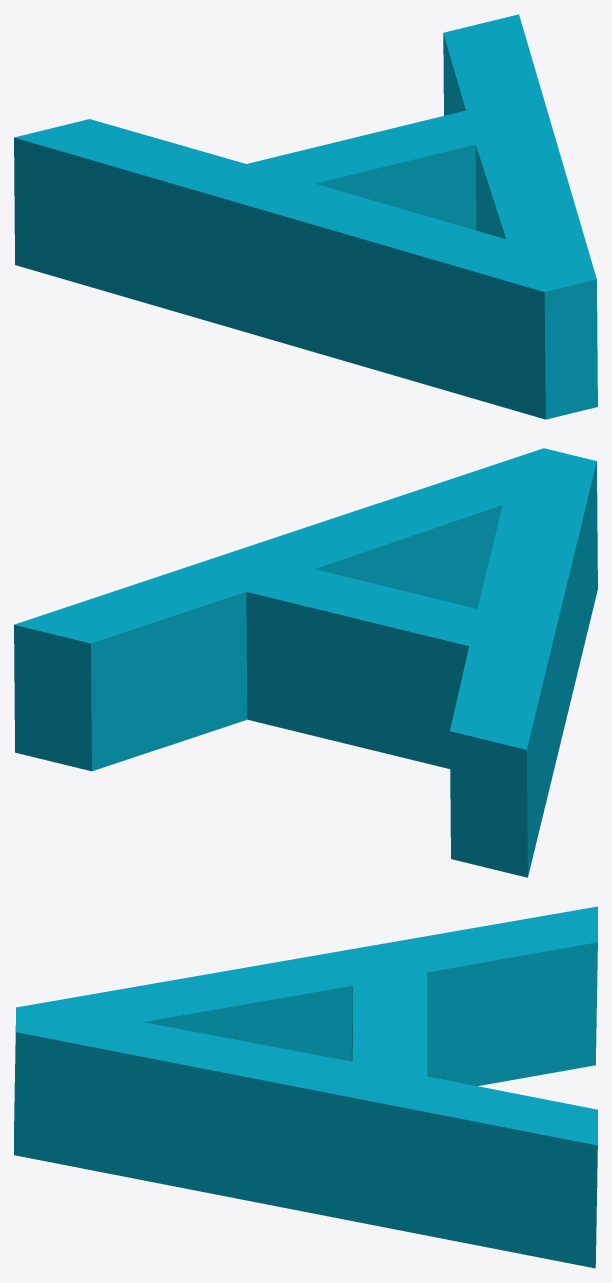
Rendered from letter_a.glb.
3 renders of one model, top to bottom at view 1: azimuth 30°, elevation 25°; view 2: azimuth 150°, elevation 25°; view 3: azimuth 270°, elevation 25°, orthographic. The views are drawn at different scales.
Visible parts, largest first — view 1: letter_a; view 2: letter_a; view 3: letter_a.
Boxes of the visible parts, box(x1,y1,x2,y2) form: letter_a: box(14, 14, 597, 419); letter_a: box(14, 448, 597, 877); letter_a: box(14, 906, 597, 1268).
Bounding box in the file's own units: 1.63 × 0.4168 × 1.68.
